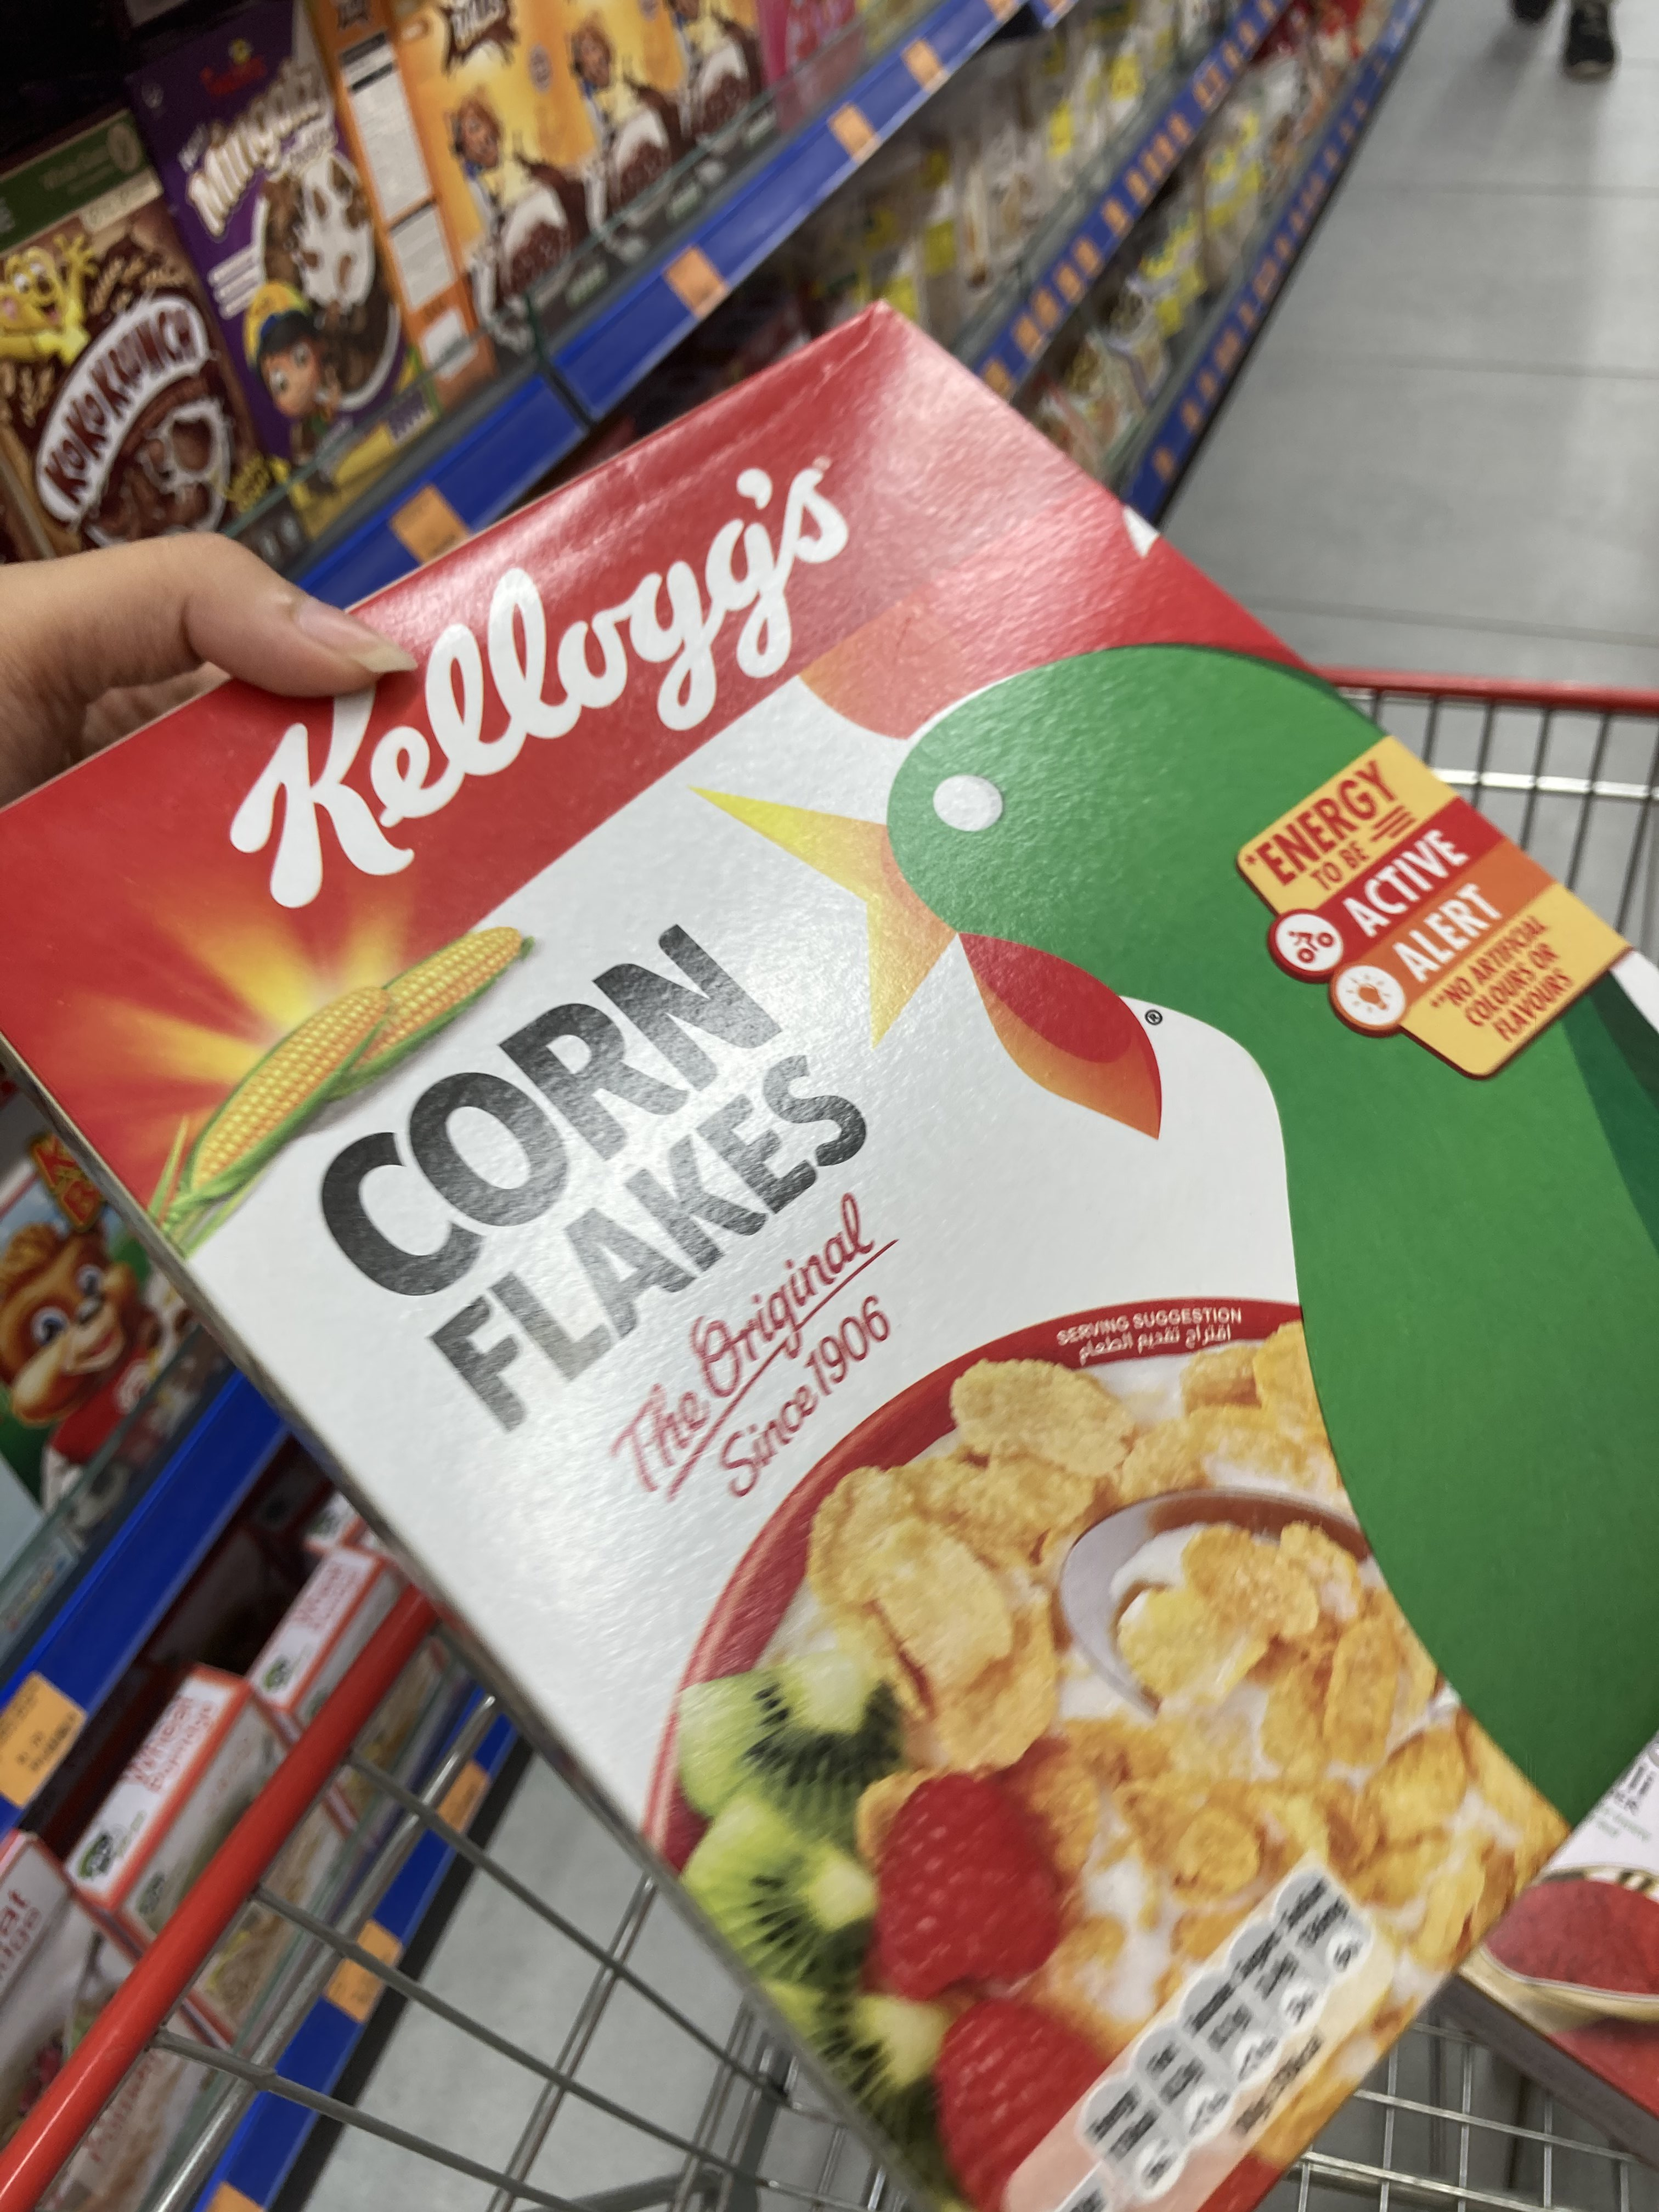Kellogg's Corn Flakes: (14, 300, 1659, 2212)
